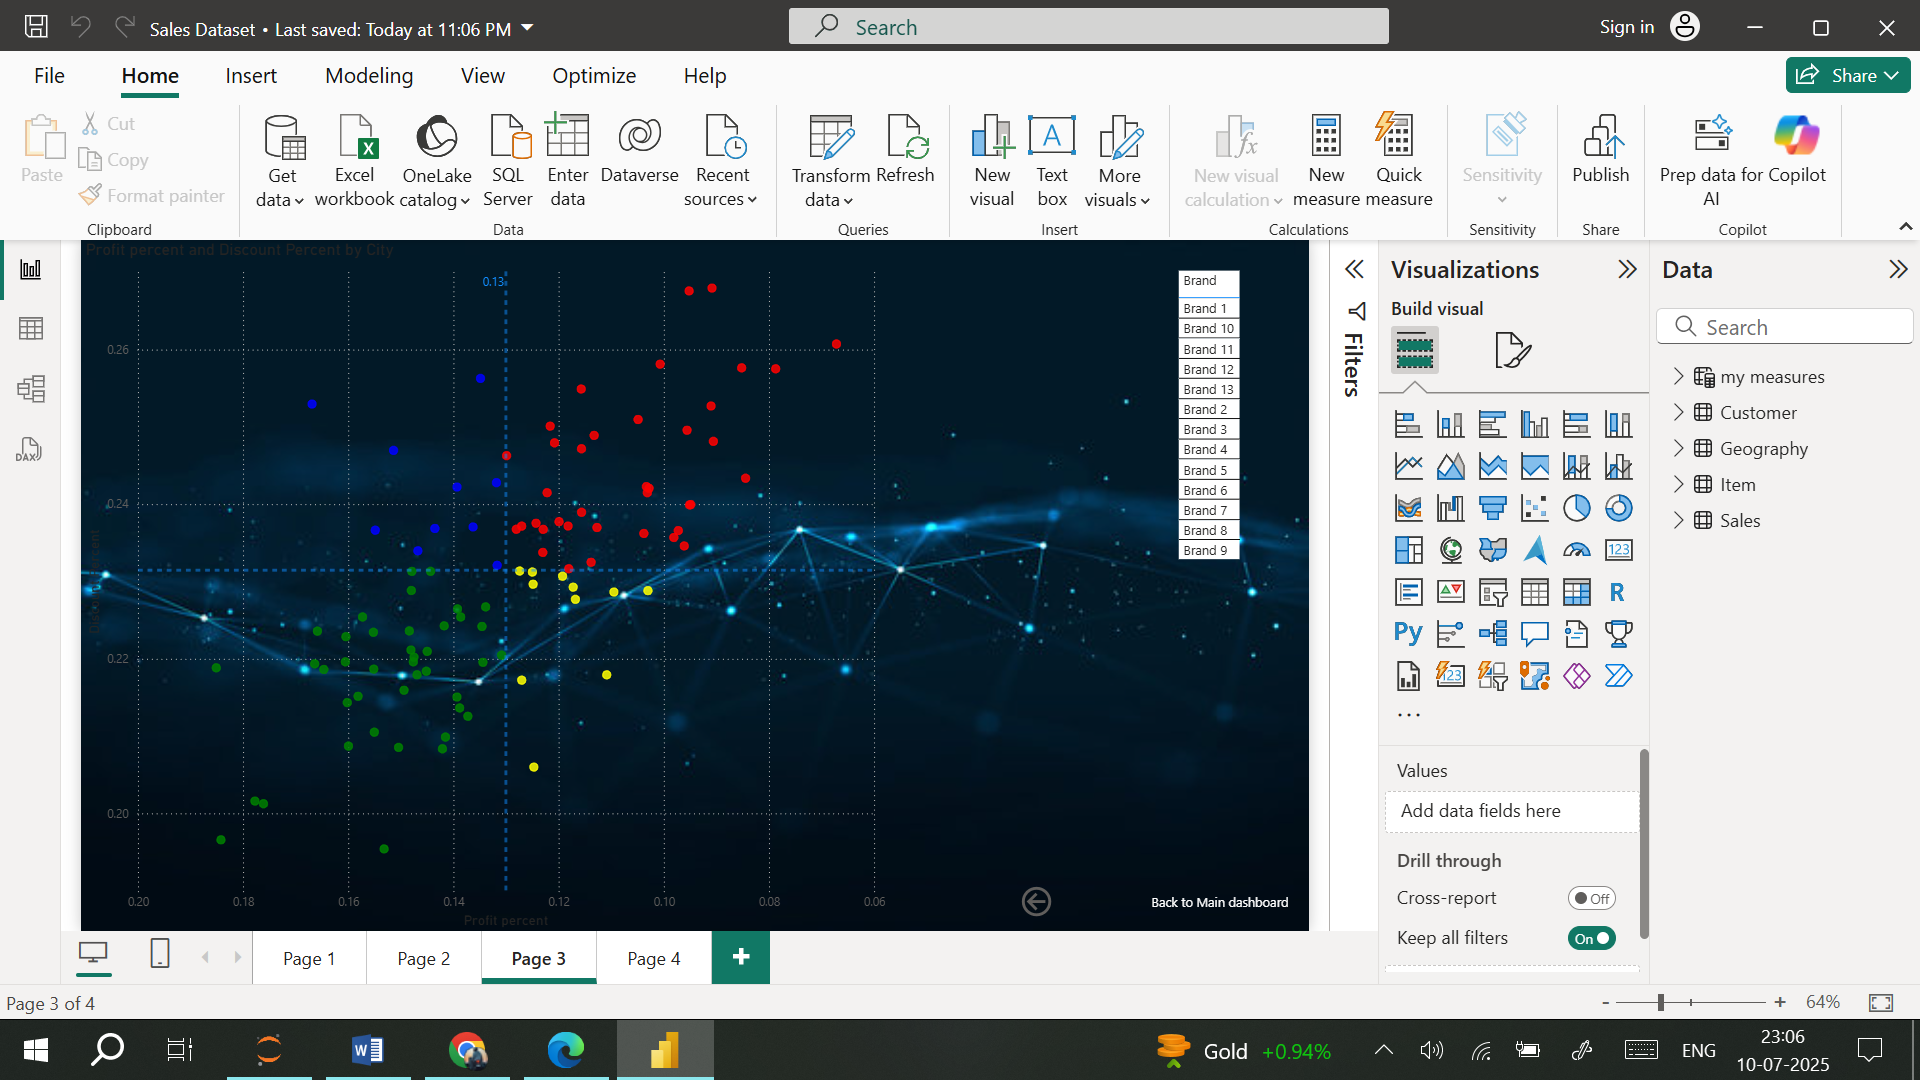

The dashboard page shown, as its layout file describes it:
{"tool":"powerbi","page":{"name":"Page 3","canvas":[1280,720],"ordinal":2},"visuals":[{"type":"scatterChart","fields":{"Category":["Customer.City"],"X":["Customer.Profit percent"],"Y":["Customer.Discount Percent"]},"box":[0,0,843.1,720.7],"z":0},{"type":"tableEx","fields":{"Values":["Item.Brand"]},"box":[1137.3,27.1,125.4,352.5],"z":1000},{"type":"actionButton","box":[975.9,668.5,287,40.7],"z":2000}]}

Visuals, with their boxes on the page's 1280x720 design canvas (x1, y1, x2, y2). These are canvas units, not pixel positions in the 1920x1080 screenshot, which may show the page scaled, cropped or inside an application window:
scatterChart - Customer.City x Customer.Profit percent: 0,0,843,721
tableEx - Item.Brand: 1137,27,1263,380
actionButton: 976,668,1263,709
